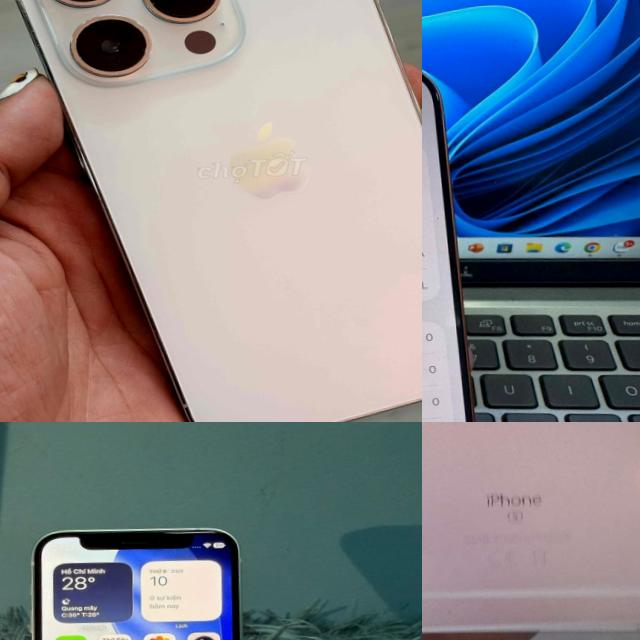gen_12_13: (24, 518, 260, 640)
gen_14: (8, 0, 422, 422)
gen_17: (422, 56, 502, 422)
gen_6: (422, 422, 640, 632)
